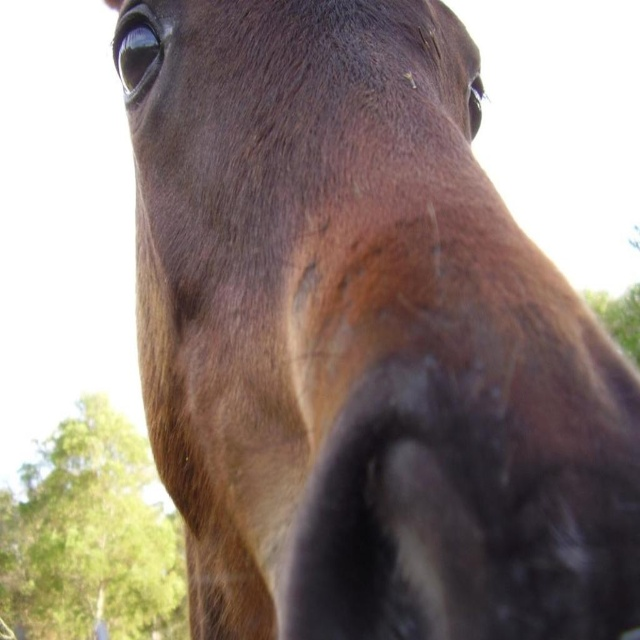Horse: (100, 0, 639, 639)
